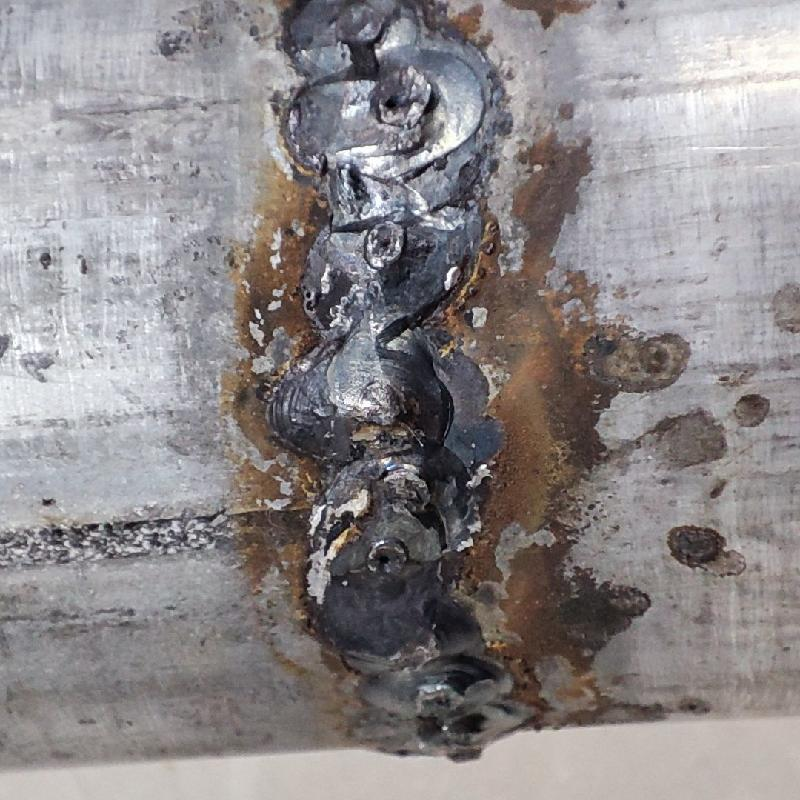Surface_pores: (370, 72, 432, 123), (355, 538, 419, 585), (364, 220, 415, 267)
wrong_size: (263, 7, 513, 761)
